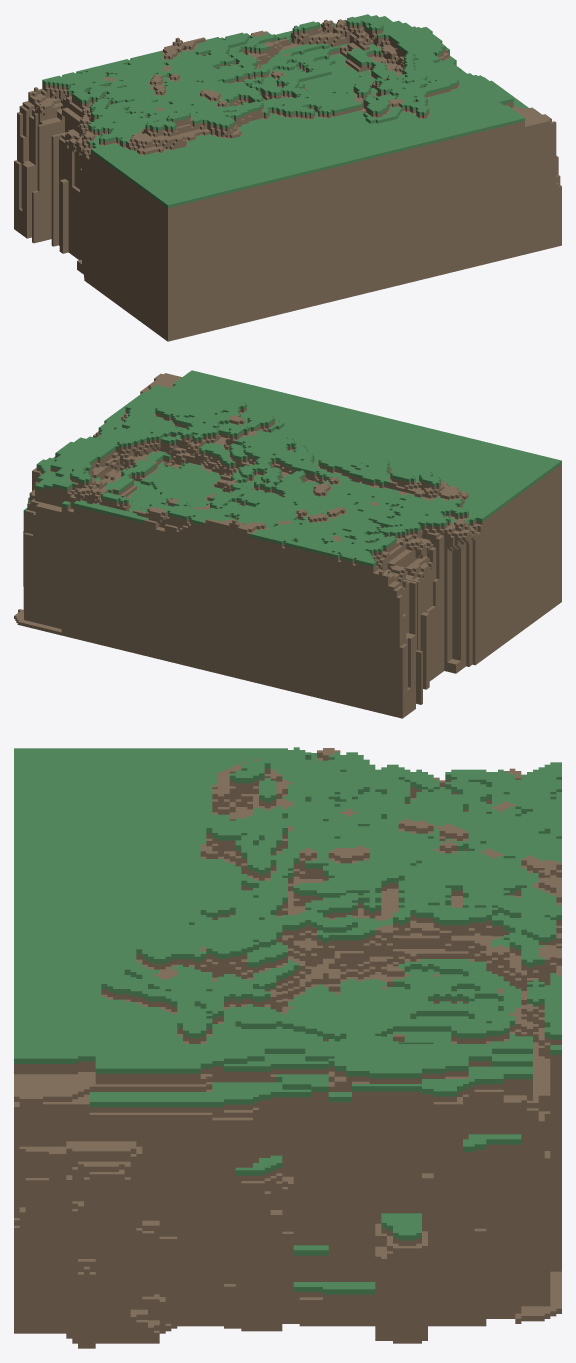
The model's file is Cubeland-12.obj.
3 views of the same model, one above another, from view 1: azimuth 30°, elevation 25°; view 2: azimuth 150°, elevation 25°; view 3: azimuth 270°, elevation 25° (orthographic). The views are drawn at different scales.
Bounding box in the file's own units: 14.5 × 5.2 × 9.4.
Materials: 1 (1 with a texture image).
